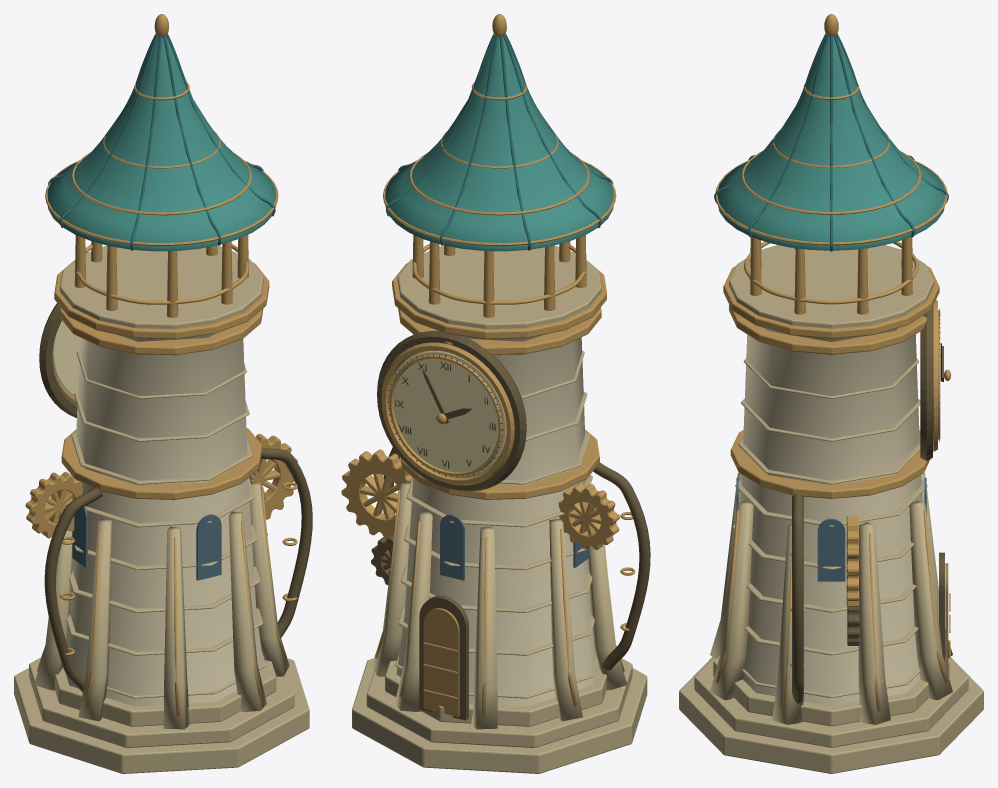
File: clock-tower.glb
3 renders of one model, left to right at view 1: azimuth 30°, elevation 25°; view 2: azimuth 150°, elevation 25°; view 3: azimuth 270°, elevation 25°, orthographic.
Parts seen in each view (by area): view 1: clock-tower__Honey limestone, clock-tower__Warm chalk plaster, clock-tower__Weathered copper, clock-tower__Warm aged brass, clock-tower__Recessed bronze, clock-tower__Copper seam, clock-tower__Lapis inlay, GearSmall, clock-tower__Clock enamel, GearMain; view 2: clock-tower__Honey limestone, clock-tower__Warm chalk plaster, clock-tower__Weathered copper, clock-tower__Warm aged brass, clock-tower__Clock enamel, clock-tower__Recessed bronze, clock-tower__Oiled ash, clock-tower__Copper seam, GearMain, GearSmall, clock-tower__Lapis inlay, GearSecondary; view 3: clock-tower__Honey limestone, clock-tower__Warm chalk plaster, clock-tower__Weathered copper, clock-tower__Warm aged brass, clock-tower__Recessed bronze, clock-tower__Copper seam, clock-tower__Lapis inlay, GearMain.
Part boxes in pixels (<box>): clock-tower__Honey limestone: <box>14,245,309,773</box>; clock-tower__Warm chalk plaster: <box>65,333,264,706</box>; clock-tower__Weathered copper: <box>47,36,276,251</box>; clock-tower__Warm aged brass: <box>36,14,297,716</box>; clock-tower__Recessed bronze: <box>39,303,312,692</box>; clock-tower__Copper seam: <box>48,34,275,250</box>; clock-tower__Lapis inlay: <box>72,476,251,580</box>; GearSmall: <box>25,471,82,538</box>; clock-tower__Clock enamel: <box>52,320,79,396</box>; GearMain: <box>255,433,297,519</box>; clock-tower__Honey limestone: <box>352,245,647,773</box>; clock-tower__Warm chalk plaster: <box>396,334,597,706</box>; clock-tower__Weathered copper: <box>385,36,613,251</box>; clock-tower__Warm aged brass: <box>374,14,635,716</box>; clock-tower__Clock enamel: <box>388,351,506,477</box>; clock-tower__Recessed bronze: <box>377,331,650,720</box>; clock-tower__Oiled ash: <box>423,608,459,716</box>; clock-tower__Copper seam: <box>386,34,613,250</box>; GearMain: <box>341,449,412,539</box>; GearSmall: <box>558,483,619,549</box>; clock-tower__Lapis inlay: <box>440,514,589,580</box>; GearSecondary: <box>371,534,393,585</box>; clock-tower__Honey limestone: <box>679,245,983,773</box>; clock-tower__Warm chalk plaster: <box>740,328,922,705</box>; clock-tower__Weathered copper: <box>717,37,945,250</box>; clock-tower__Warm aged brass: <box>715,14,951,711</box>; clock-tower__Recessed bronze: <box>792,307,944,703</box>; clock-tower__Copper seam: <box>714,33,948,251</box>; clock-tower__Lapis inlay: <box>736,478,926,581</box>; GearMain: <box>846,516,858,607</box>.
Size of the model in its own units: 5.25 by 12.57 by 4.99.
